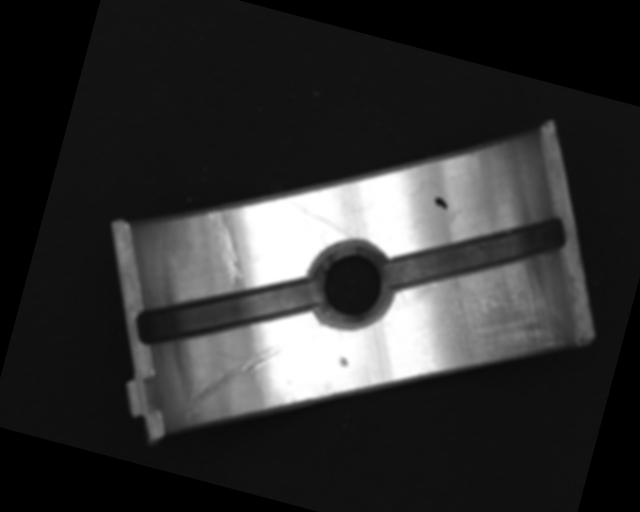blot: (431, 195, 450, 210)
bruise: (337, 355, 349, 367)
gap: (128, 240, 321, 382), (383, 179, 572, 324)
hole: (300, 230, 403, 336)
nick: (183, 328, 283, 441), (190, 207, 259, 291), (274, 196, 359, 239)
scratch: (432, 248, 583, 400)
